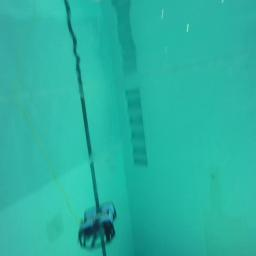Side: (79, 201, 116, 249)
